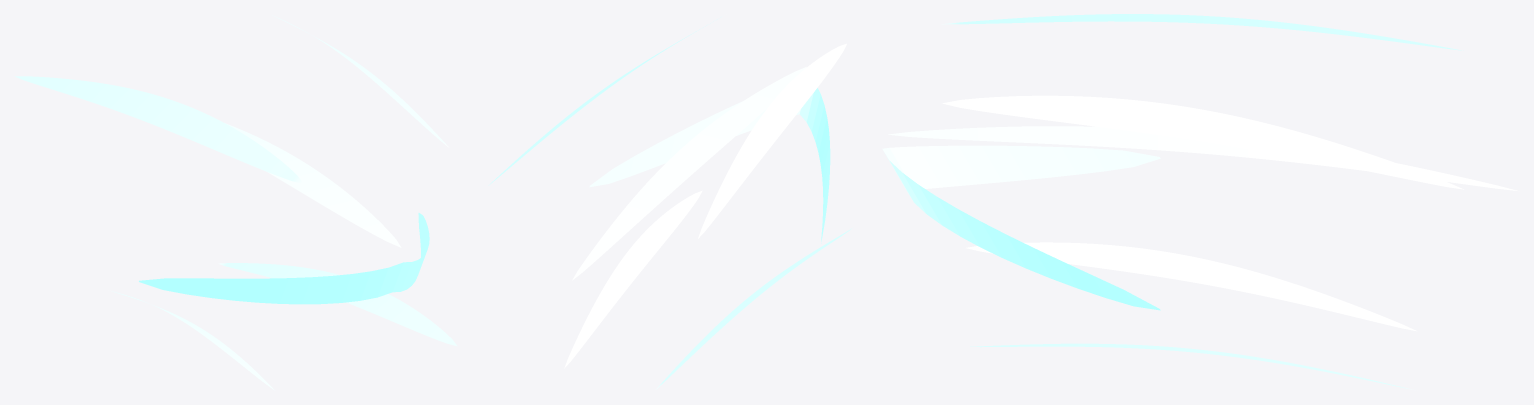
File: shadow_trail.glb
3 views of the same model, side by side, from view 1: azimuth 30°, elevation 25°; view 2: azimuth 150°, elevation 25°; view 3: azimuth 270°, elevation 25° (orthographic). The views are drawn at different scales.
Parts seen in each view (by area): view 1: tapered shadow ribbons; view 2: tapered shadow ribbons; view 3: tapered shadow ribbons.
Boxes of the visible parts, x1,y1,x2,y2 form: tapered shadow ribbons: (15, 15, 457, 390); tapered shadow ribbons: (488, 17, 851, 389); tapered shadow ribbons: (882, 14, 1517, 389).
Size of the model in its own units: 0.92 by 0.863 by 1.63.
